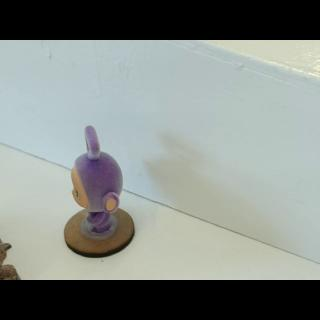teletubby: (72, 126, 122, 234)
